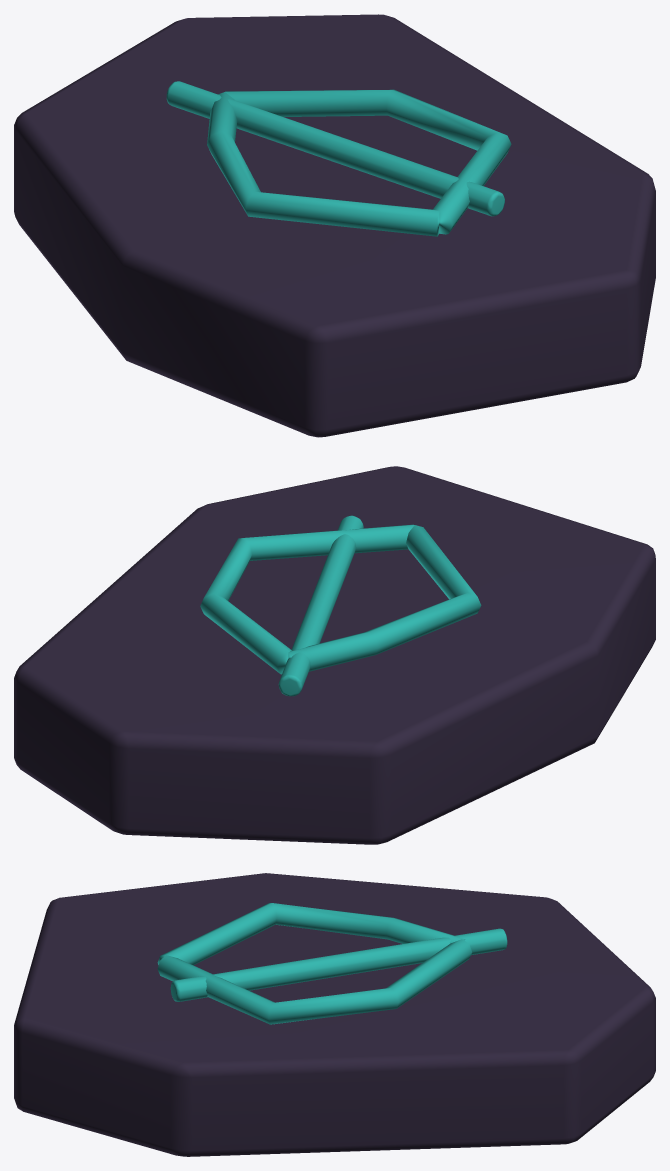
The model's file is rok.glb.
The picture shows the model from 3 angles, top to bottom: view 1: azimuth 30°, elevation 25°; view 2: azimuth 150°, elevation 25°; view 3: azimuth 270°, elevation 25°; orthographic projection. The views are drawn at different scales.
Visible parts, largest first — view 1: SM_rok; view 2: SM_rok; view 3: SM_rok.
Part boxes in pixels (x1,y1,x2,y2): SM_rok: [14, 14, 655, 437]; SM_rok: [14, 466, 655, 844]; SM_rok: [14, 873, 655, 1156].
Bounding box in the file's own units: 0.1986 × 0.054 × 0.2714.
